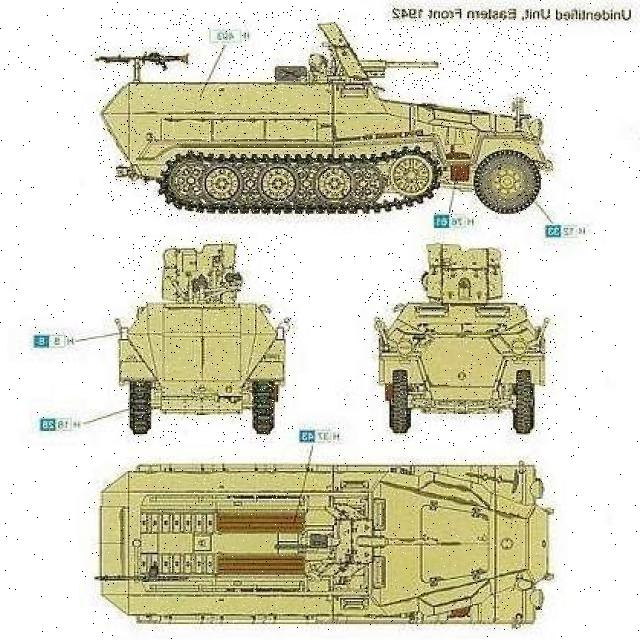MIL_MBT: (99, 10, 552, 217), (82, 459, 557, 621), (363, 251, 556, 446), (119, 232, 295, 443)
